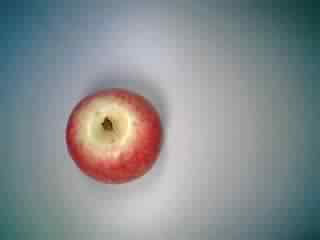apple: (63, 80, 167, 184)
